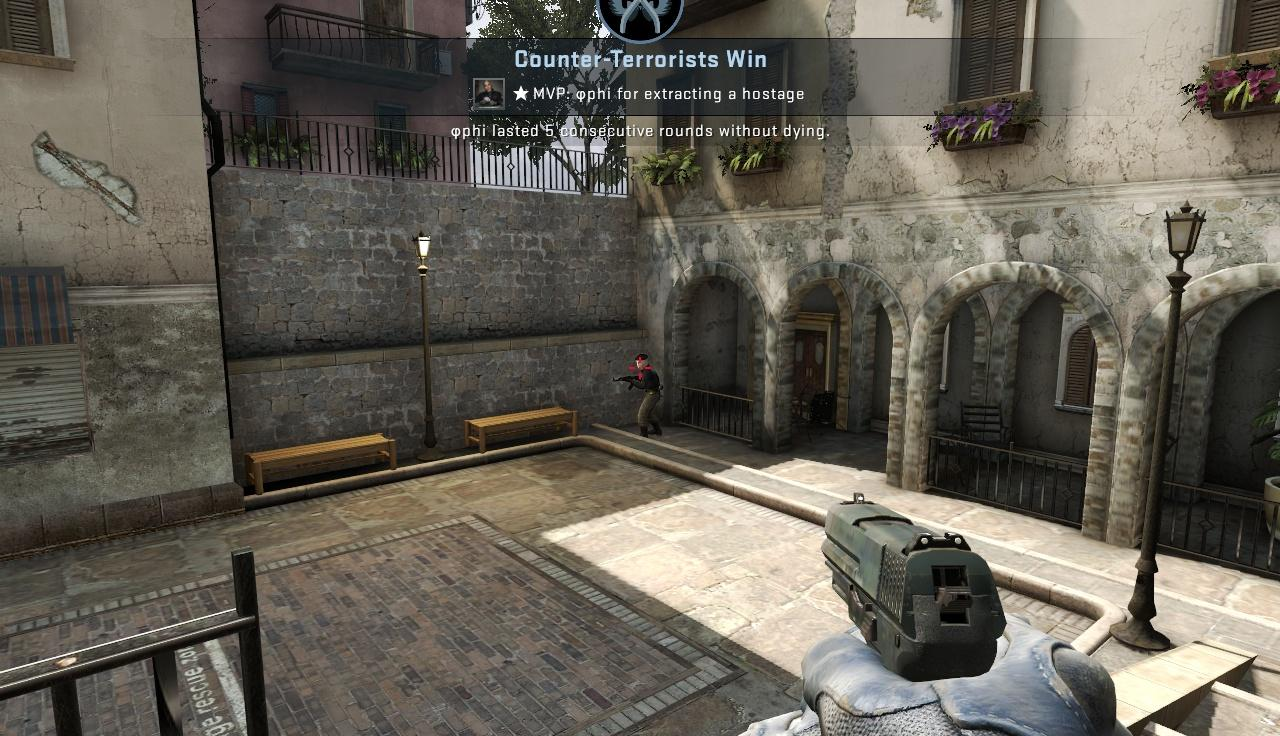pistol: (819, 488, 1115, 736)
tt: (634, 353, 661, 437)
tthead: (636, 354, 649, 369)
